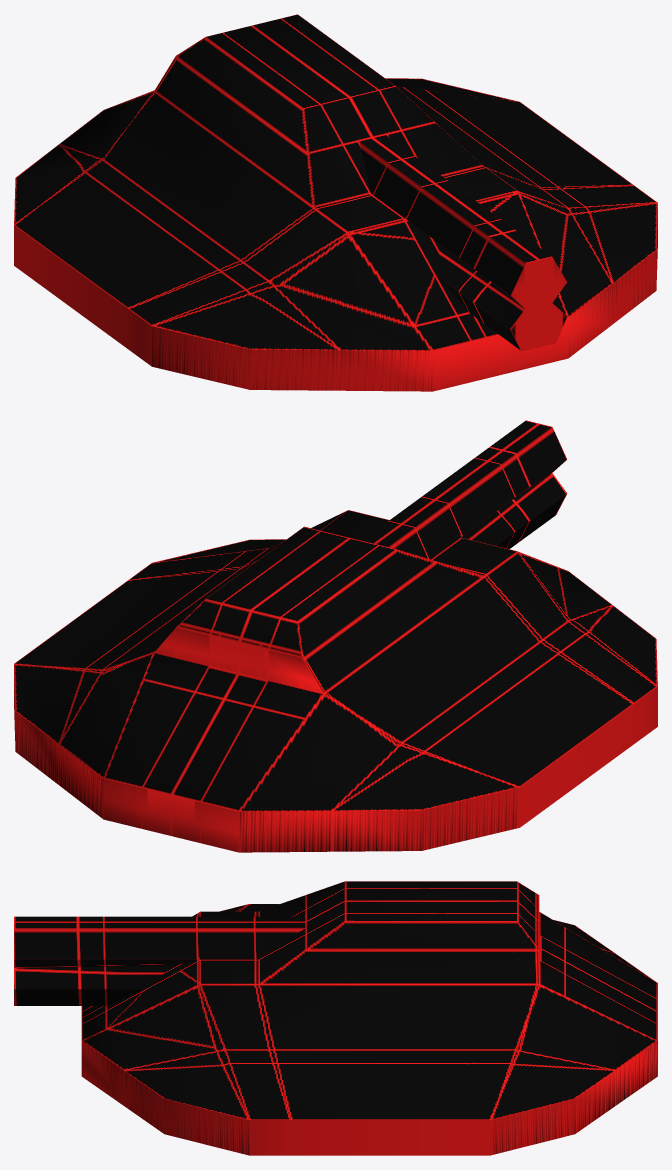
The model's file is enemy_tank_01.fbx.
3 views of the same model, one above another, from view 1: azimuth 30°, elevation 25°; view 2: azimuth 150°, elevation 25°; view 3: azimuth 270°, elevation 25° (orthographic). The views are drawn at different scales.
Visible parts, largest first — view 1: cube; view 2: cube; view 3: cube.
Part boxes in pixels (box(x1,y1,x2,y2)): cube: box(14, 14, 657, 391); cube: box(14, 420, 657, 852); cube: box(14, 881, 657, 1155).
Bounding box in the file's own units: 996 × 315 × 1255.
